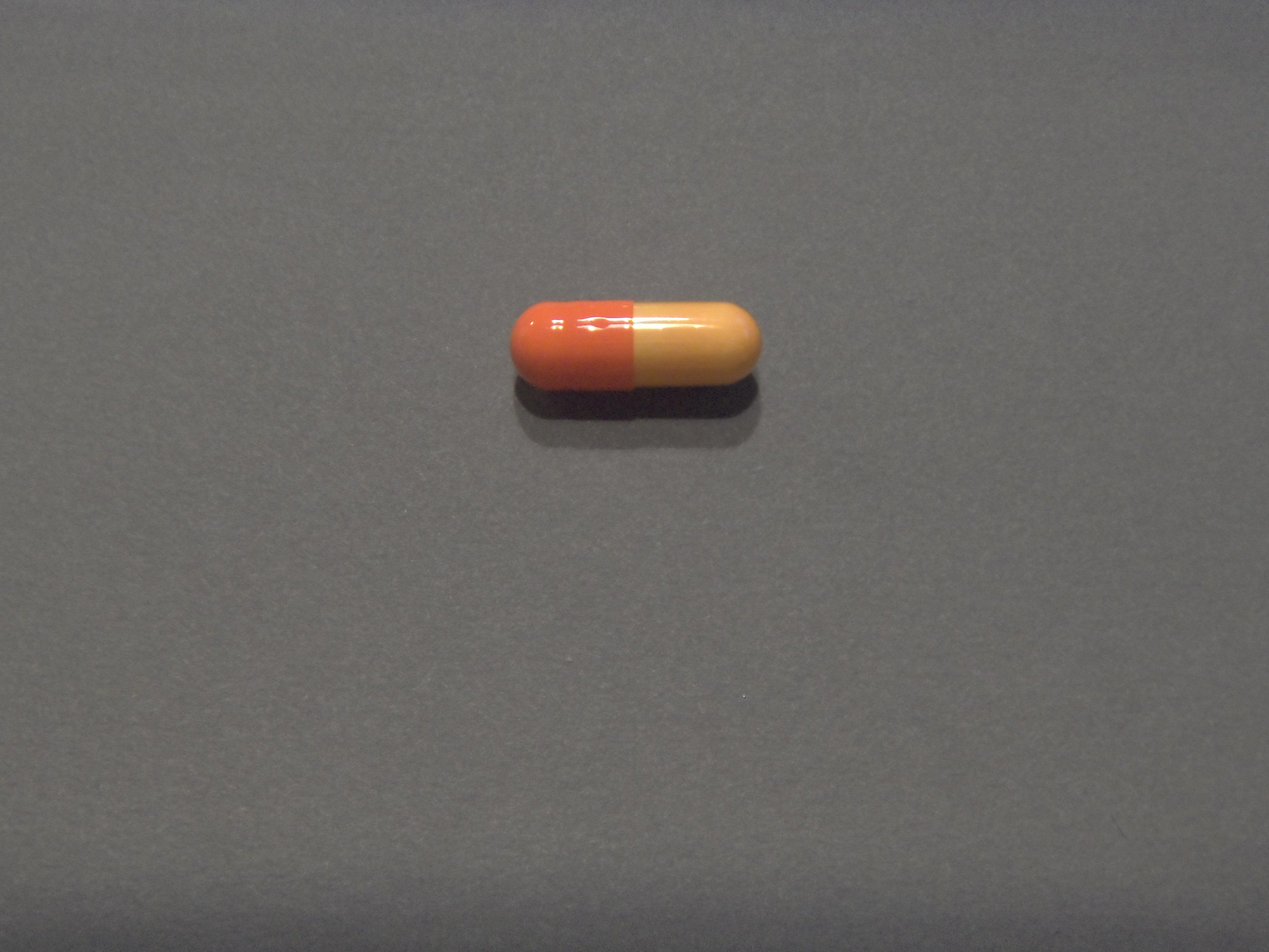Pill: (503, 290, 768, 403)
